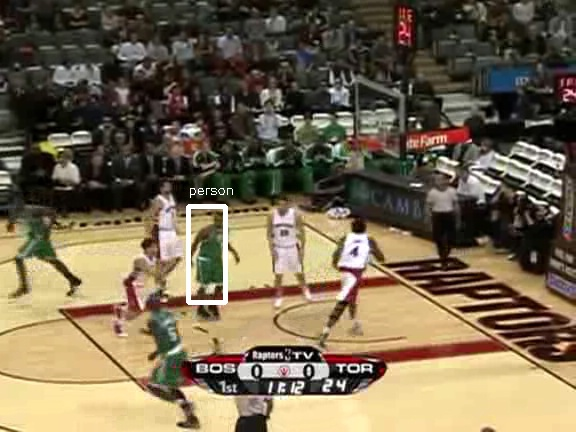person: (198, 214, 232, 295), (197, 214, 231, 295), (199, 214, 233, 295), (198, 213, 232, 294), (198, 215, 232, 296)
target_negative: (34, 99, 205, 382), (345, 55, 413, 424), (513, 142, 576, 291), (380, 58, 430, 96), (529, 224, 576, 240), (539, 335, 547, 399)
